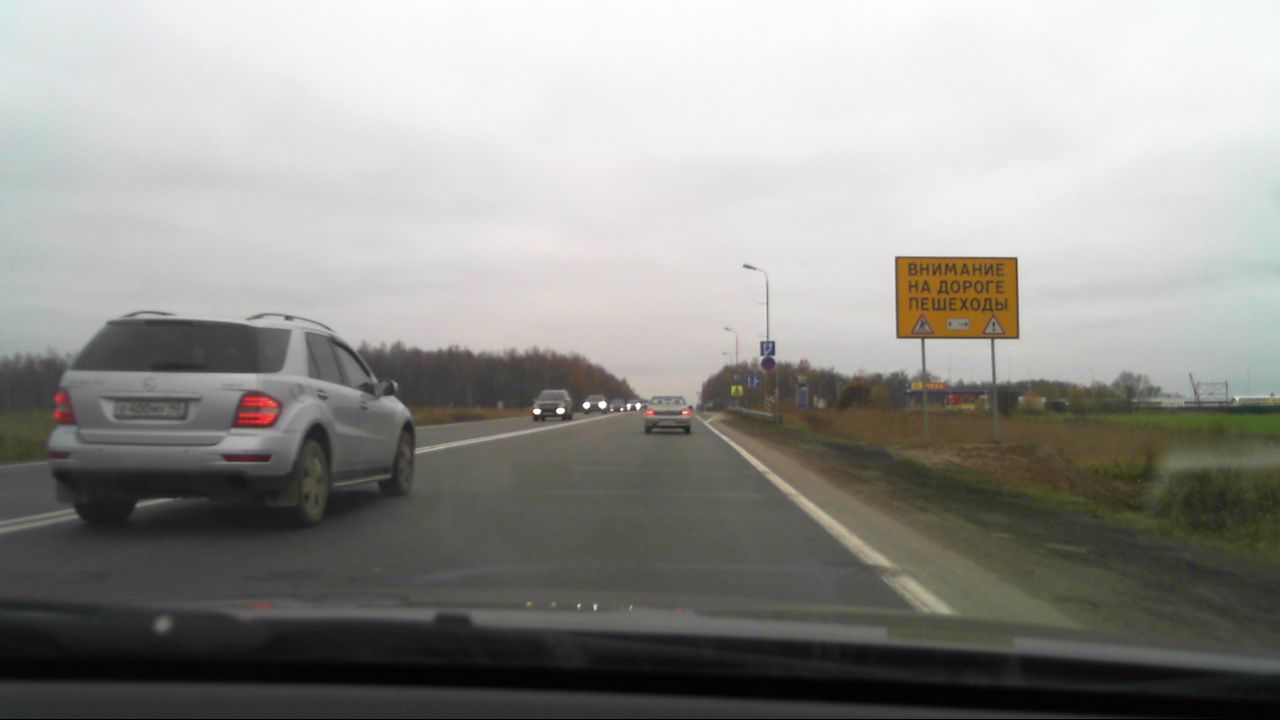No Parking: (760, 355, 776, 372)
